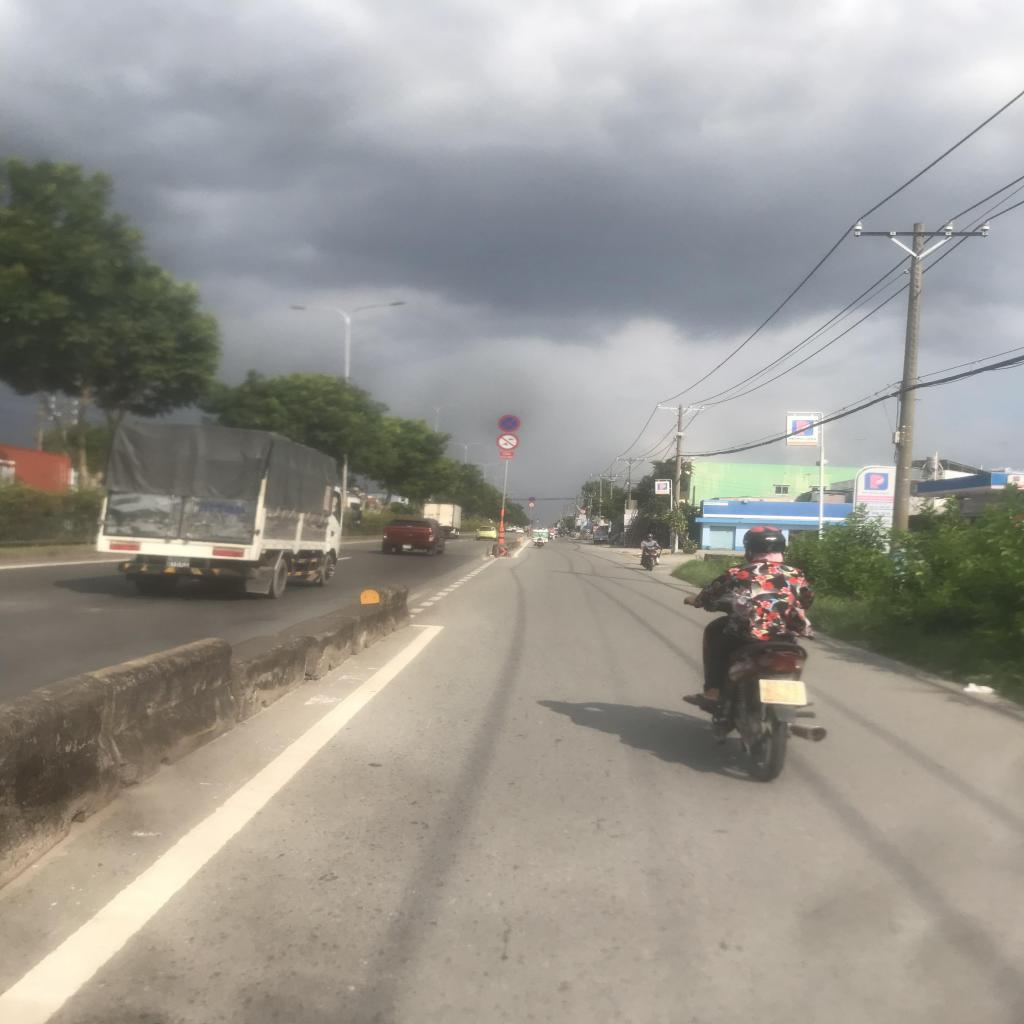cam_dung_xe_va_do_xe: (498, 414, 521, 432), (529, 497, 535, 502)
cam_o_to_tai_va_xe_khach: (580, 509, 586, 513)
cam_xe_2_banh_va_xe_3_banh_co_dong_co: (496, 433, 520, 451), (529, 503, 534, 507)
khac: (576, 519, 588, 526), (580, 514, 586, 520)
